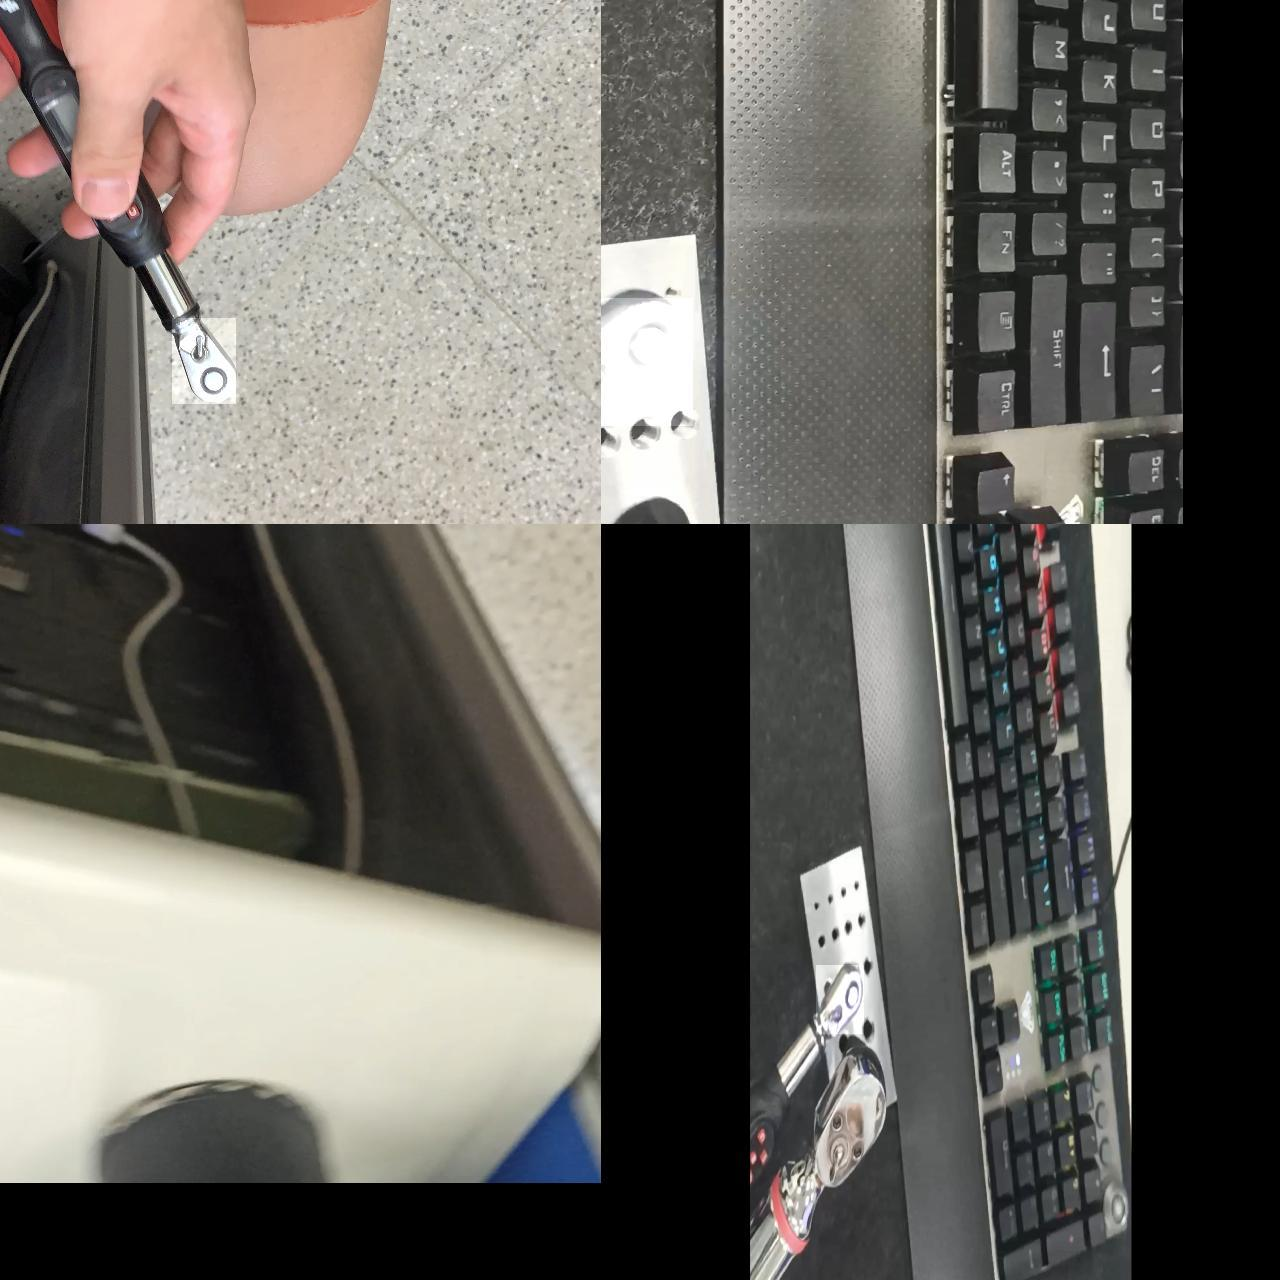Tool: (783, 1051, 887, 1240), (601, 298, 692, 425), (171, 318, 234, 404), (815, 965, 863, 1034)
